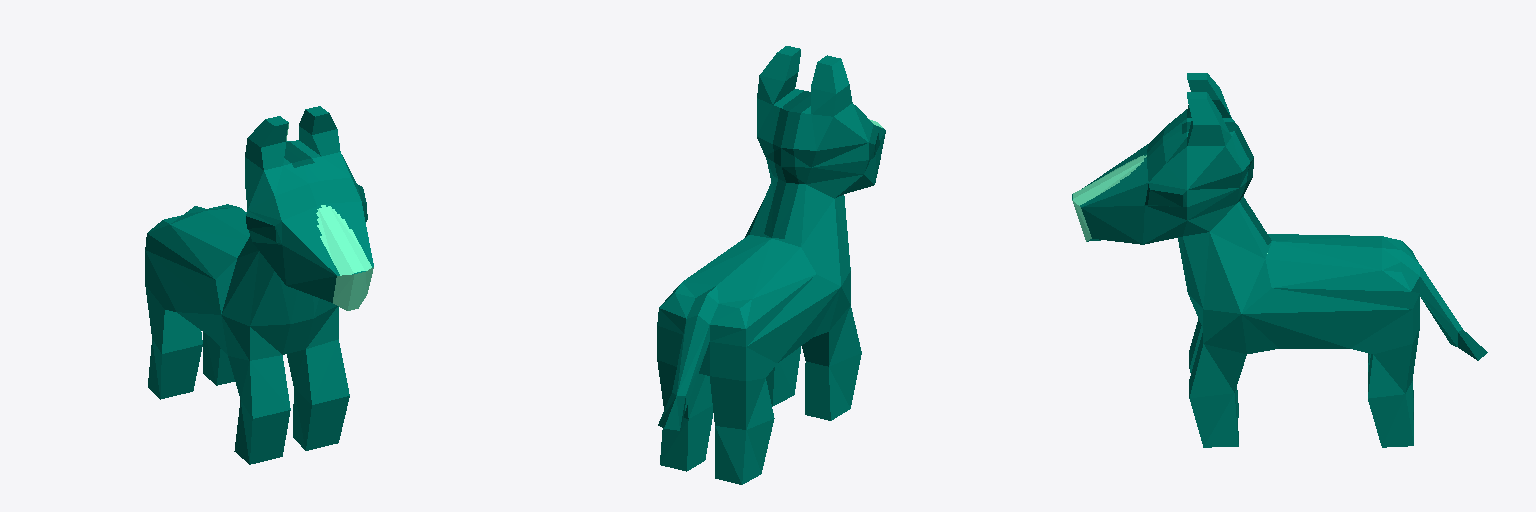
3 renders of one model, left to right at view 1: azimuth 30°, elevation 25°; view 2: azimuth 150°, elevation 25°; view 3: azimuth 270°, elevation 25°, orthographic.
Parts seen in each view (by area): view 1: Horse_立方体; view 2: Horse_立方体; view 3: Horse_立方体.
Part boxes in pixels (bbox=[...]): Horse_立方体: bbox=[145, 106, 373, 464]; Horse_立方体: bbox=[657, 46, 885, 484]; Horse_立方体: bbox=[1072, 73, 1487, 447].
Size of the model in its own units: 1.34 by 3.7 by 4.11.
Materials: 1 (1 with a texture image).